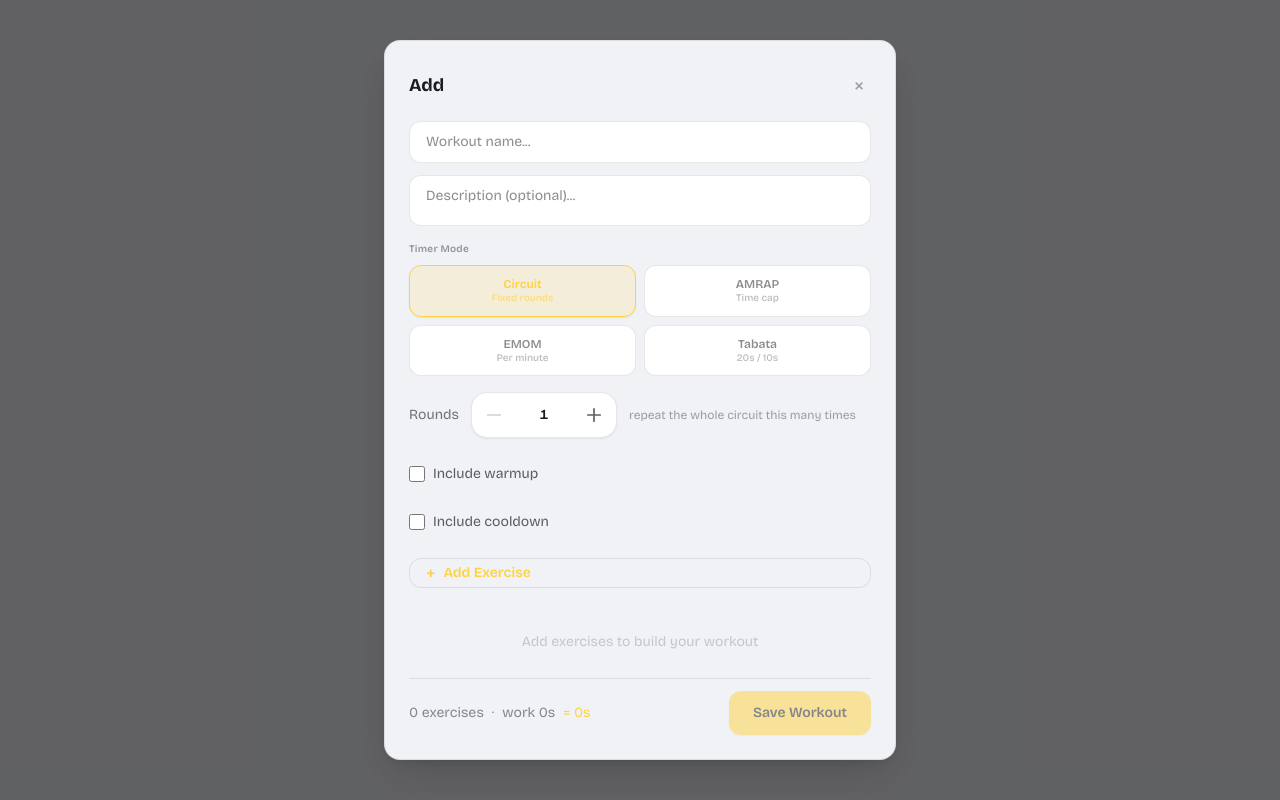
it: WorkoutEditor › shows warmup time input when warmup is enabled
Note: Warmup checkbox label
Click the text "Include warmup" at {"x": 486, "y": 474}, box [433,464,538,484]
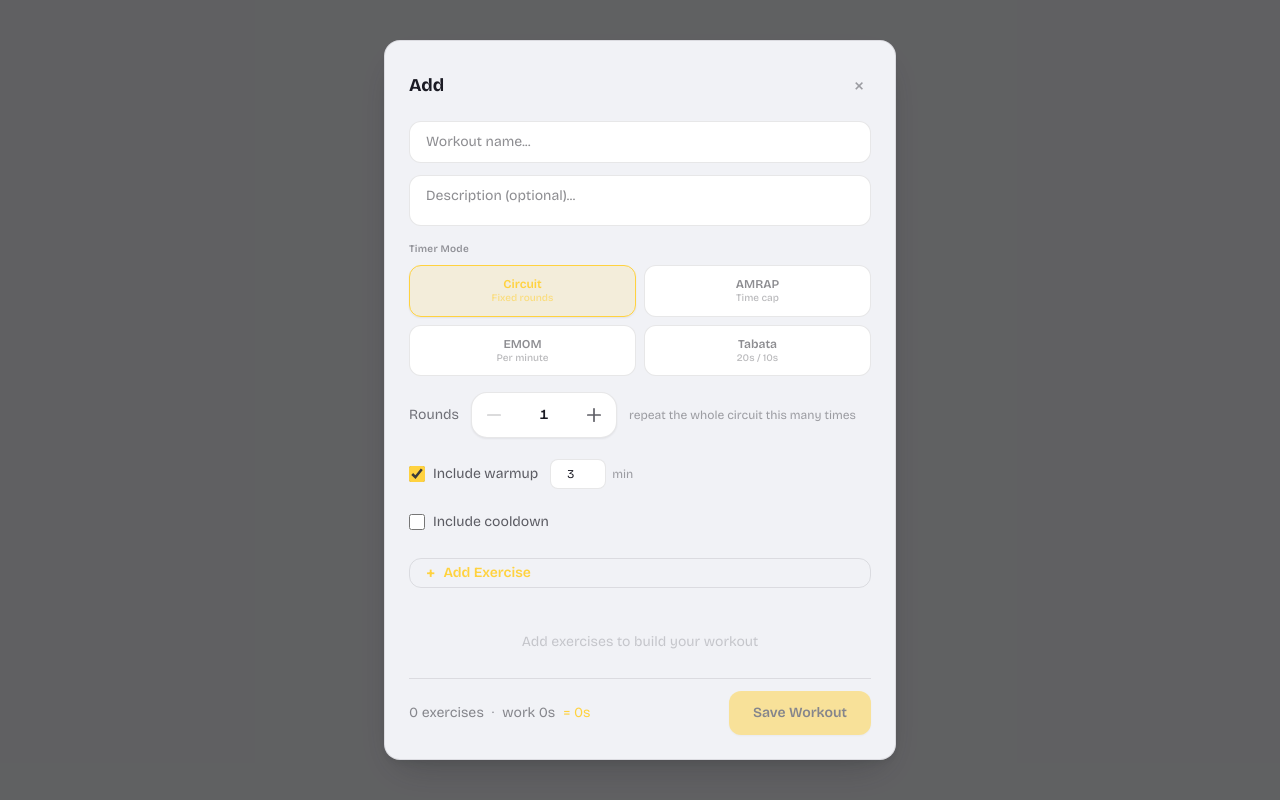
Check: the number field is shown, box [550,459,606,489]
